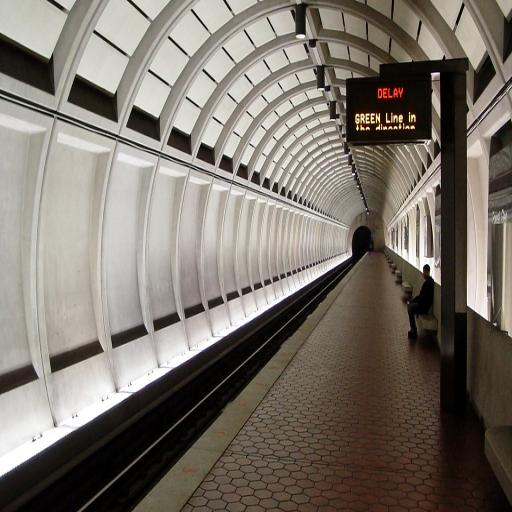platform_edge: (113, 269, 344, 512)
